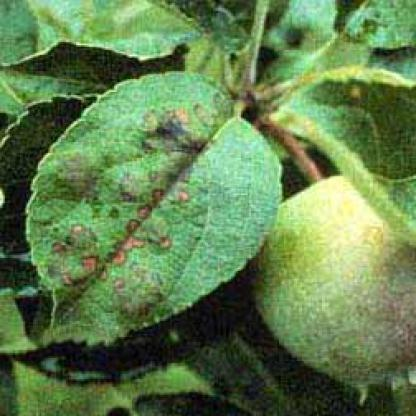apple scab leaf: (31, 58, 295, 353)
